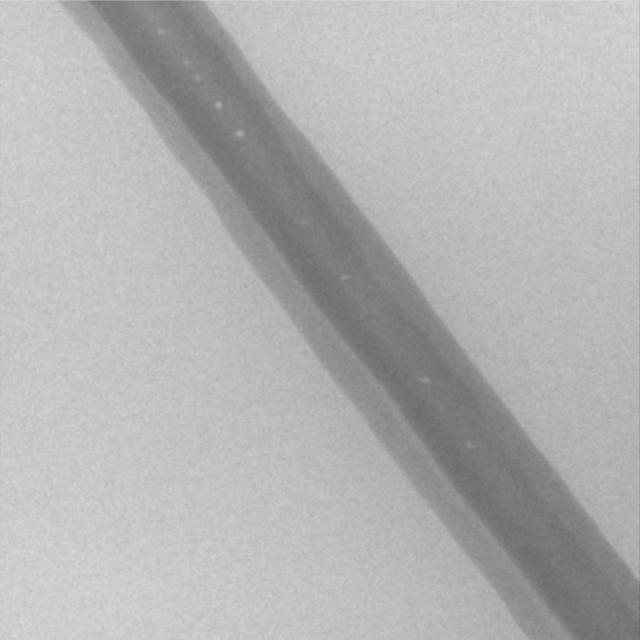air hole: (214, 99, 223, 110), (156, 27, 166, 36), (181, 59, 191, 67), (235, 129, 244, 137), (193, 75, 201, 82)
